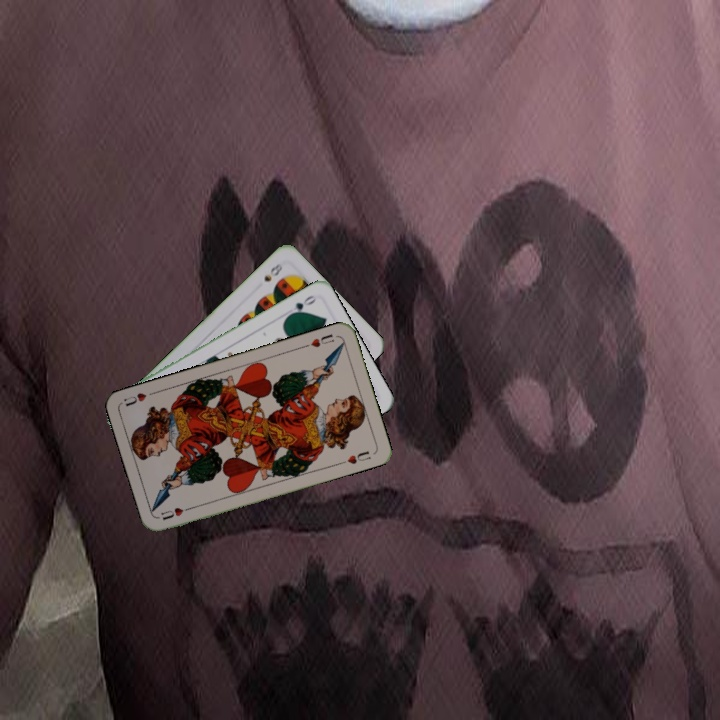GO: (284, 291, 319, 319)
HU: (157, 503, 195, 523), (300, 330, 337, 350)
S8: (260, 259, 285, 284)
